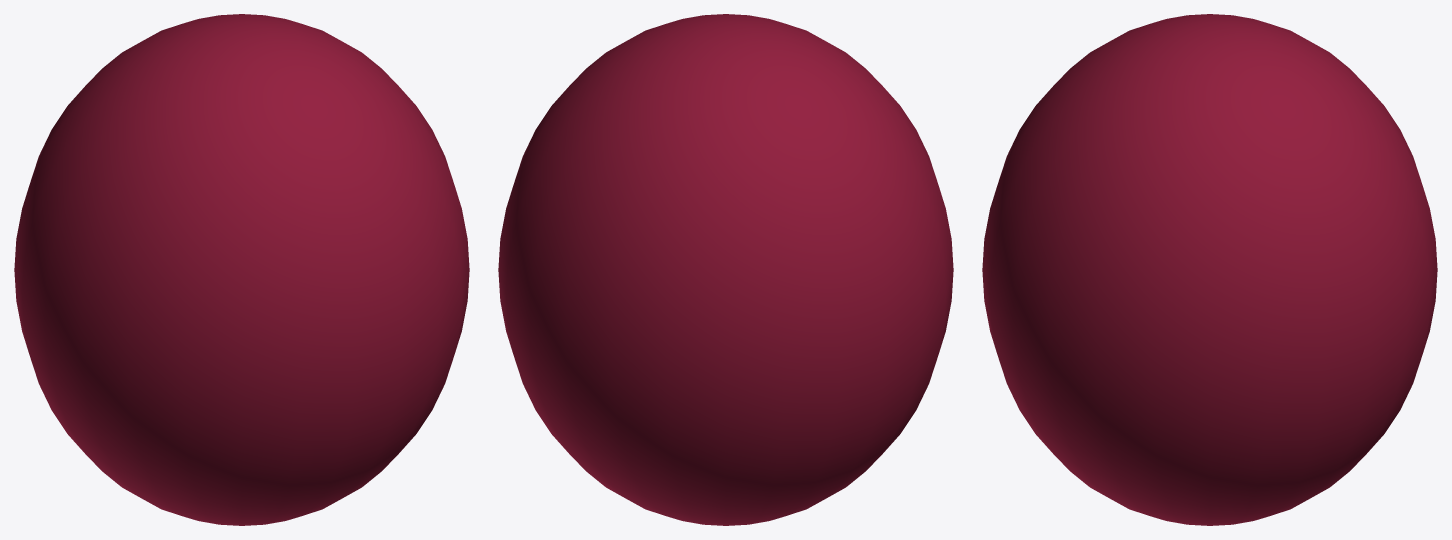
The model's file is berry.glb.
3 views of the same model, side by side, from view 1: azimuth 30°, elevation 25°; view 2: azimuth 150°, elevation 25°; view 3: azimuth 270°, elevation 25° (orthographic).
Bounding box in the file's own units: 1 × 1.15 × 1.
